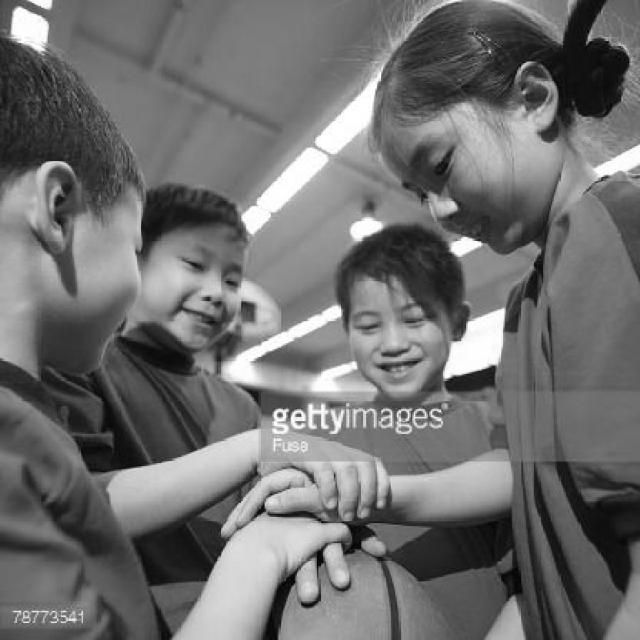person: (335, 0, 640, 329), (0, 66, 148, 452), (312, 213, 454, 438), (133, 178, 253, 418)
